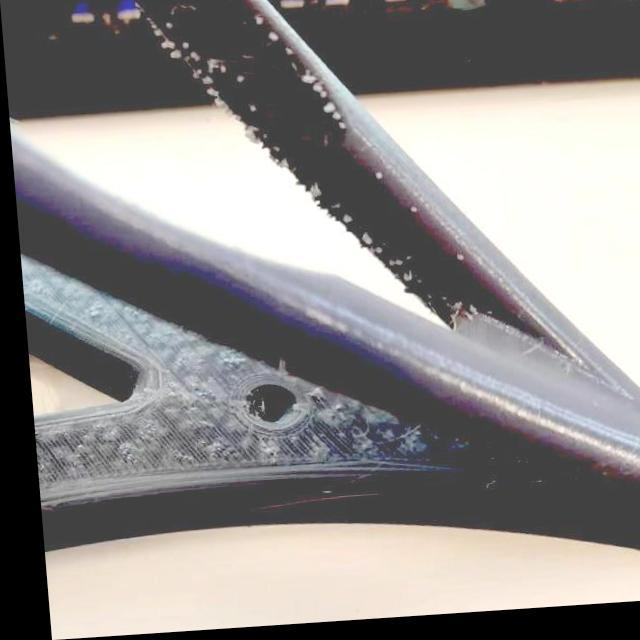zits: (398, 201, 419, 226), (300, 72, 318, 92), (162, 49, 186, 64), (309, 88, 330, 105), (332, 214, 353, 231), (262, 34, 284, 50), (354, 234, 372, 253), (201, 88, 222, 104), (382, 257, 399, 276), (304, 187, 322, 204), (449, 254, 466, 271), (248, 16, 264, 34), (228, 74, 244, 92), (332, 122, 347, 140), (365, 172, 383, 187), (317, 104, 334, 119), (397, 276, 410, 293), (369, 246, 380, 264), (176, 39, 190, 52), (242, 107, 259, 116), (282, 47, 294, 58), (326, 118, 341, 126)
